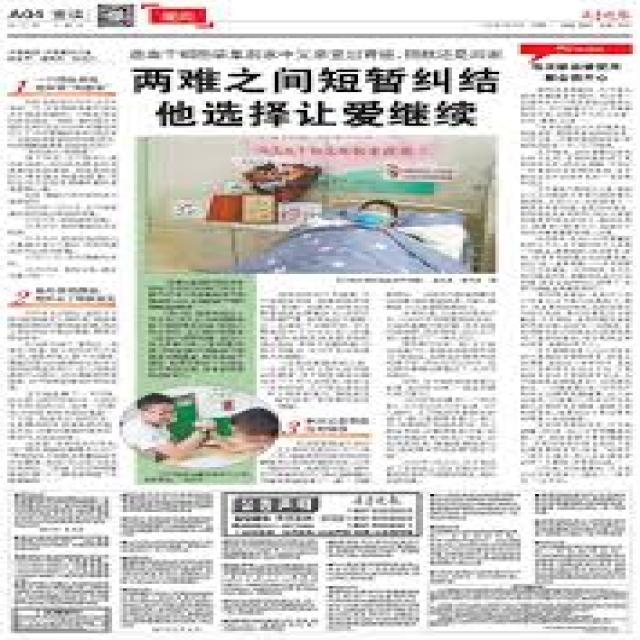paper: (14, 9, 640, 640)
